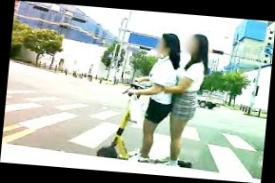multiple: (97, 27, 214, 179)
